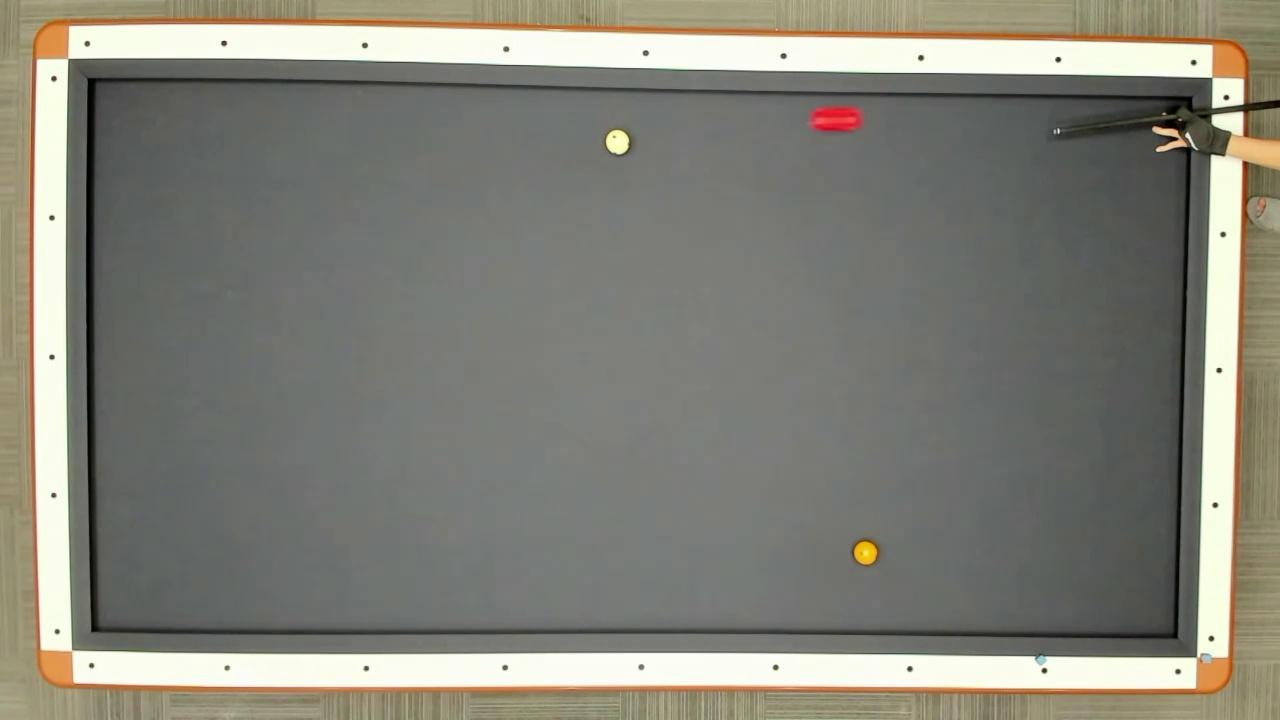Red: (806, 104, 865, 134)
White: (604, 127, 632, 157)
Yellow: (850, 538, 880, 568)
